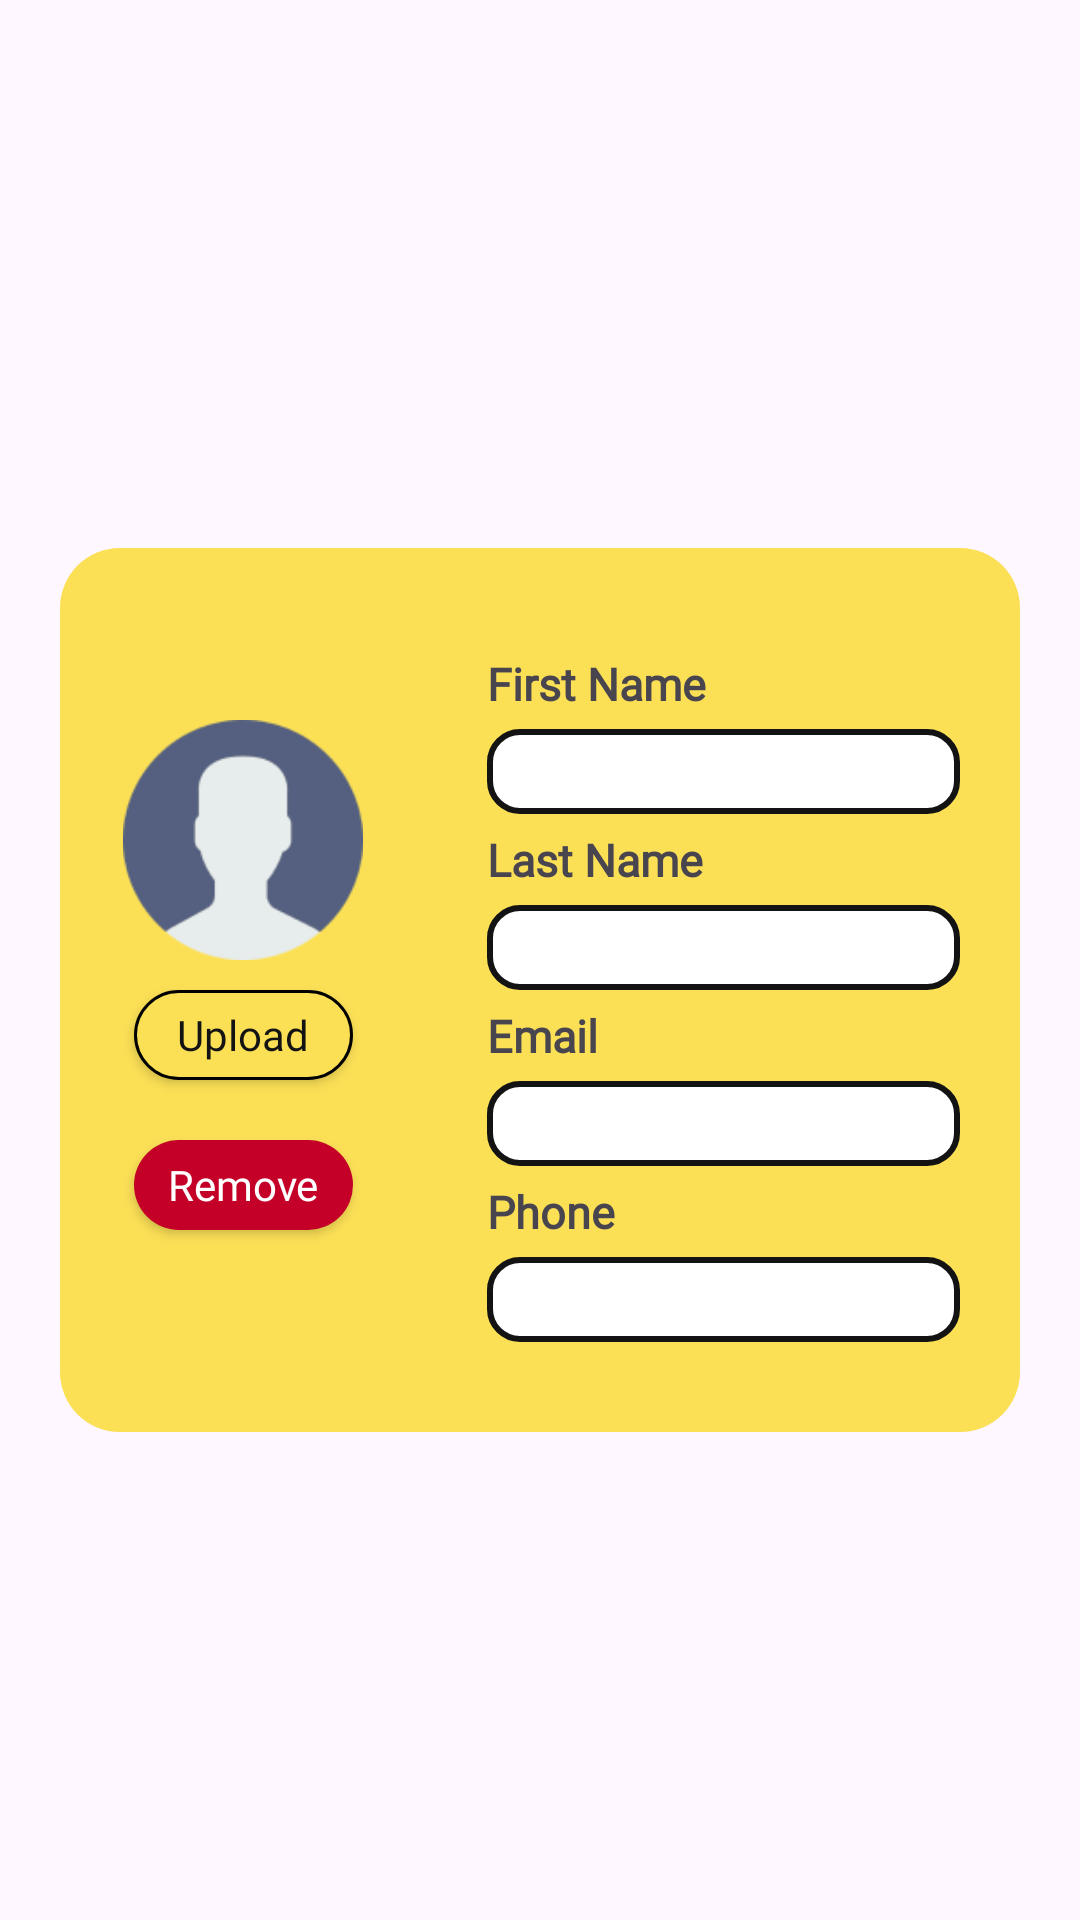

Where icons sit on this 1080×1920 app screen, as {"left": x1, "top": y1, "right": x2, "bottom": y2}:
no one: {"left": 123, "top": 720, "right": 363, "bottom": 960}
